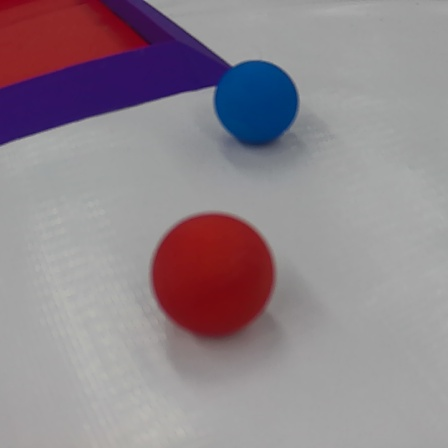blue: (211, 58, 303, 153)
red: (148, 206, 277, 343)
red_aim: (0, 0, 243, 154)
